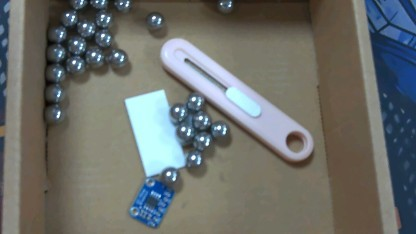ironball: (208, 118, 232, 142), (142, 10, 166, 32), (42, 62, 64, 82), (180, 150, 203, 169), (164, 103, 188, 121), (159, 165, 179, 186), (42, 82, 64, 101), (184, 90, 205, 109), (47, 25, 68, 44), (84, 49, 104, 68), (91, 8, 111, 27), (56, 6, 75, 26), (174, 124, 195, 142), (64, 54, 85, 72), (64, 35, 87, 51), (190, 111, 210, 129), (215, 0, 235, 18), (64, 0, 91, 13), (107, 50, 127, 67), (111, 0, 132, 16), (46, 42, 63, 61), (93, 30, 111, 46), (45, 101, 60, 120), (194, 132, 210, 148), (73, 18, 88, 33), (91, 0, 109, 7)
